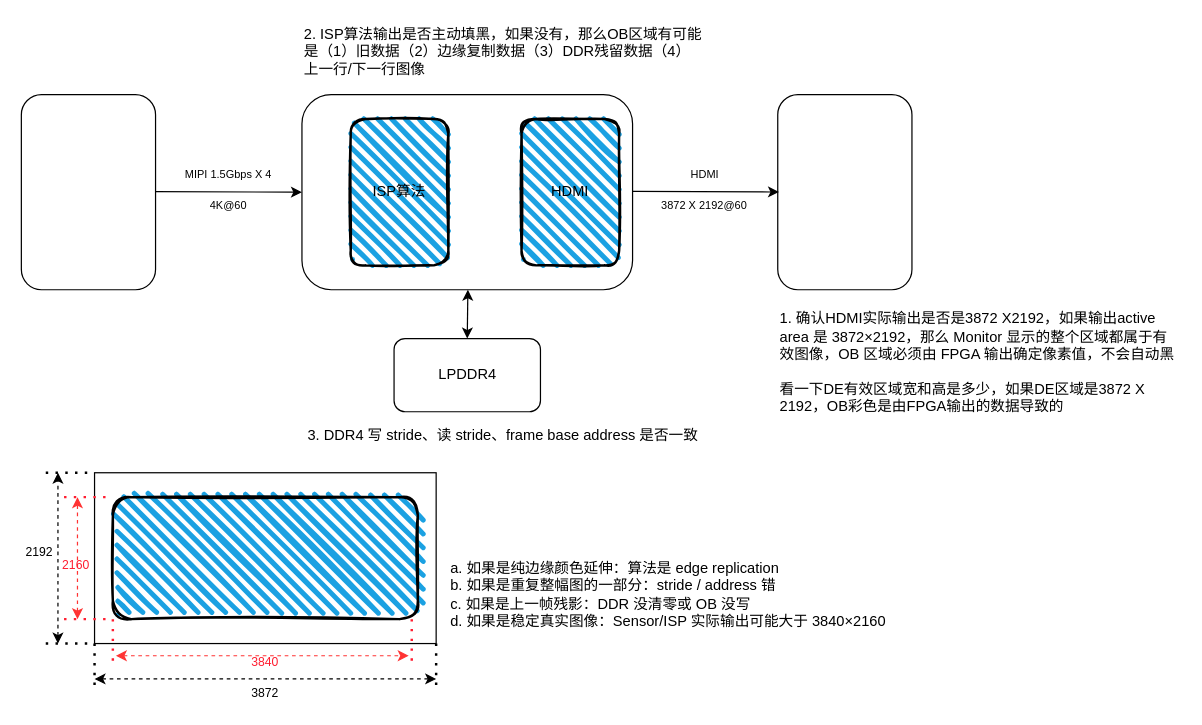
Some shapes in this 1202 by 725 pixel diagram are drawn without their labels. Here are the shapes that lost their labels. From the top down, the centre of each, then its label:
At (x=88, y=191): "Sensor".
At (x=844, y=191): "Monitor".
